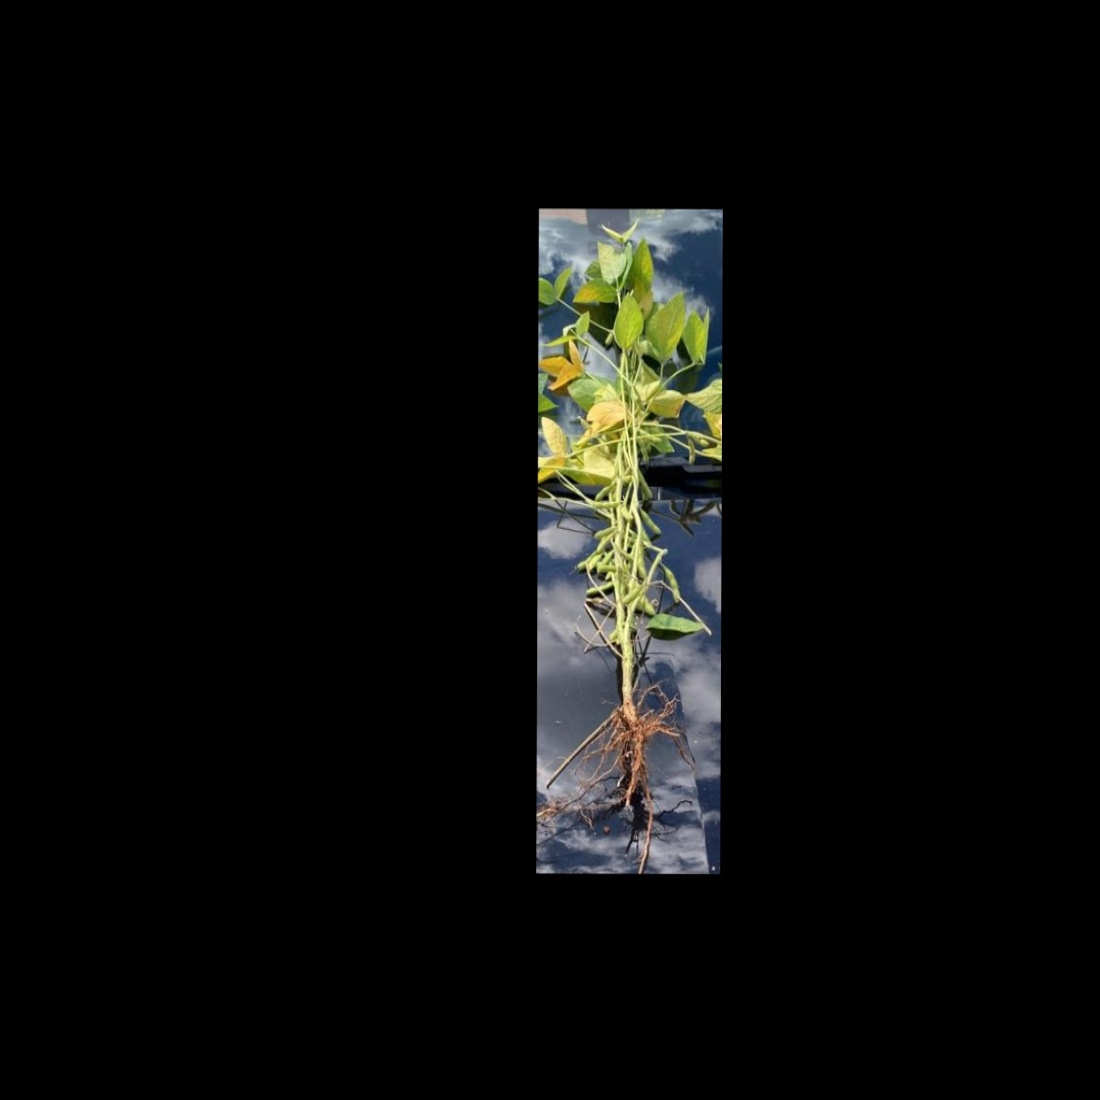pod: (661, 561, 682, 609), (639, 505, 662, 538), (637, 469, 656, 503), (585, 579, 615, 594), (593, 480, 615, 501), (591, 499, 620, 510), (596, 562, 620, 574)
soy: (547, 219, 715, 828)
